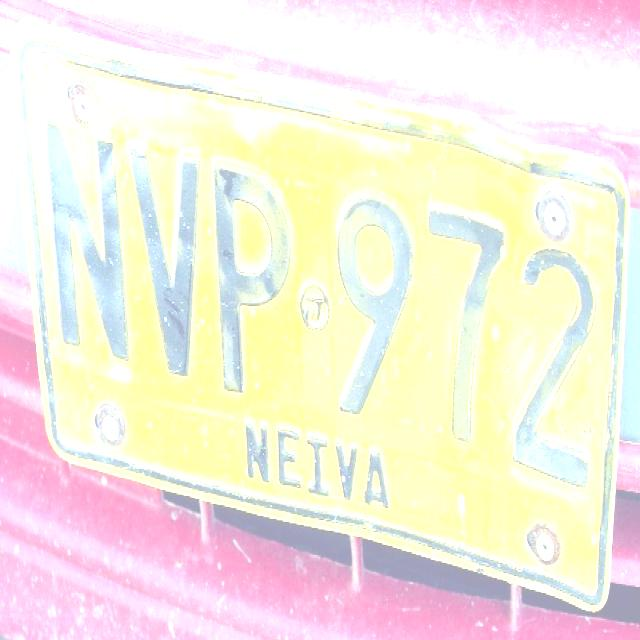placa: (6, 12, 632, 622)
